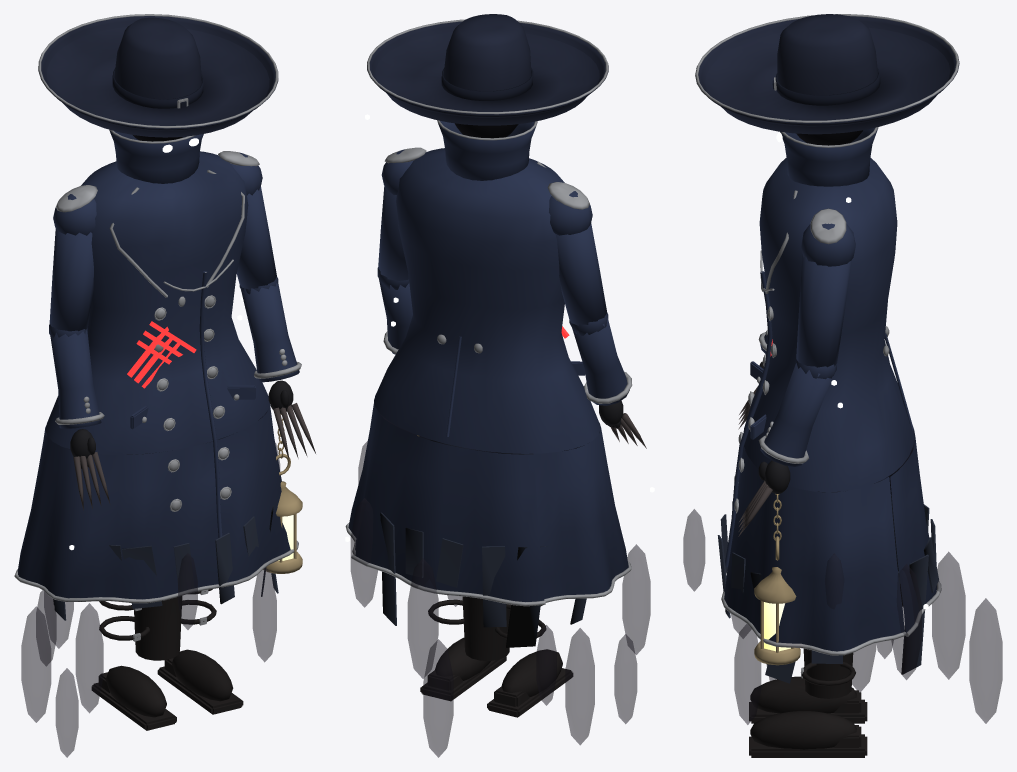
Rendered from night_warden.glb.
The picture shows the model from 3 angles, left to right: view 1: azimuth 30°, elevation 25°; view 2: azimuth 150°, elevation 25°; view 3: azimuth 270°, elevation 25°; orthographic projection. The views are drawn at different scales.
Parts seen in each view (by area): view 1: Warden_Root_Coat, HatPivot_Felt, Warden_Root_HSmoke, ArmA_Coat, ArmB_Coat, LegA_Leather, Warden_Root_TarnishedSilver, LegB_Leather, Warden_Root_HRag_070a11, HatPivot_TarnishedSilver, ArmB_Brass, Warden_Root_HWound (+7 smaller); view 2: Warden_Root_Coat, CoatTail, HatPivot_Felt, Warden_Root_HSmoke, ArmA_Coat, Warden_Root_HRag_070a11, LegA_Leather, ArmB_Coat, LegB_Leather, HatPivot_TarnishedSilver, ArmA_TarnishedSilver, Warden_Root_TarnishedSilver (+4 smaller); view 3: Warden_Root_Coat, HatPivot_Felt, Warden_Root_HSmoke, ArmB_Coat, LegB_Leather, LegA_Leather, Warden_Root_HRag_070a11, CoatTail, Warden_Root_TarnishedSilver, ArmB_Brass, HatPivot_TarnishedSilver, ArmB_TarnishedSilver (+5 smaller).
Part boxes in pixels (left/top/right/bottom): Warden_Root_Coat: left=17, top=130, right=290, bottom=599; HatPivot_Felt: left=38, top=16, right=278, bottom=137; Warden_Root_HSmoke: left=21, top=443, right=280, bottom=757; ArmA_Coat: left=49, top=194, right=101, bottom=428; ArmB_Coat: left=230, top=152, right=299, bottom=382; LegA_Leather: left=91, top=596, right=182, bottom=730; Warden_Root_TarnishedSilver: left=14, top=129, right=298, bottom=603; LegB_Leather: left=157, top=589, right=243, bottom=714; Warden_Root_HRag_070a11: left=53, top=505, right=278, bottom=620; HatPivot_TarnishedSilver: left=38, top=14, right=278, bottom=128; ArmB_Brass: left=263, top=414, right=302, bottom=573; Warden_Root_HWound: left=127, top=321, right=196, bottom=388; Warden_Root_Coat: left=348, top=121, right=628, bottom=598; CoatTail: left=355, top=417, right=544, bottom=601; HatPivot_Felt: left=367, top=14, right=608, bottom=125; Warden_Root_HSmoke: left=350, top=440, right=650, bottom=757; ArmA_Coat: left=549, top=191, right=629, bottom=405; Warden_Root_HRag_070a11: left=380, top=512, right=586, bottom=647; LegA_Leather: left=462, top=596, right=573, bottom=717; ArmB_Coat: left=377, top=149, right=413, bottom=354; LegB_Leather: left=420, top=599, right=506, bottom=701; HatPivot_TarnishedSilver: left=367, top=19, right=608, bottom=114; ArmA_TarnishedSilver: left=547, top=182, right=632, bottom=403; Warden_Root_TarnishedSilver: left=345, top=120, right=631, bottom=602; Warden_Root_Coat: left=724, top=128, right=913, bottom=651; HatPivot_Felt: left=695, top=14, right=959, bottom=134; Warden_Root_HSmoke: left=683, top=509, right=1002, bottom=724; ArmB_Coat: left=760, top=223, right=855, bottom=466; LegB_Leather: left=749, top=649, right=867, bottom=757; LegA_Leather: left=749, top=648, right=867, bottom=723; Warden_Root_HRag_070a11: left=717, top=495, right=938, bottom=683; CoatTail: left=890, top=427, right=936, bottom=632; Warden_Root_TarnishedSilver: left=721, top=127, right=905, bottom=655; ArmB_Brass: left=754, top=494, right=800, bottom=665; HatPivot_TarnishedSilver: left=695, top=14, right=959, bottom=122; ArmB_TarnishedSilver: left=758, top=208, right=846, bottom=463.
Bounding box in the file's own units: 0.8011 × 1.97 × 0.7819.
